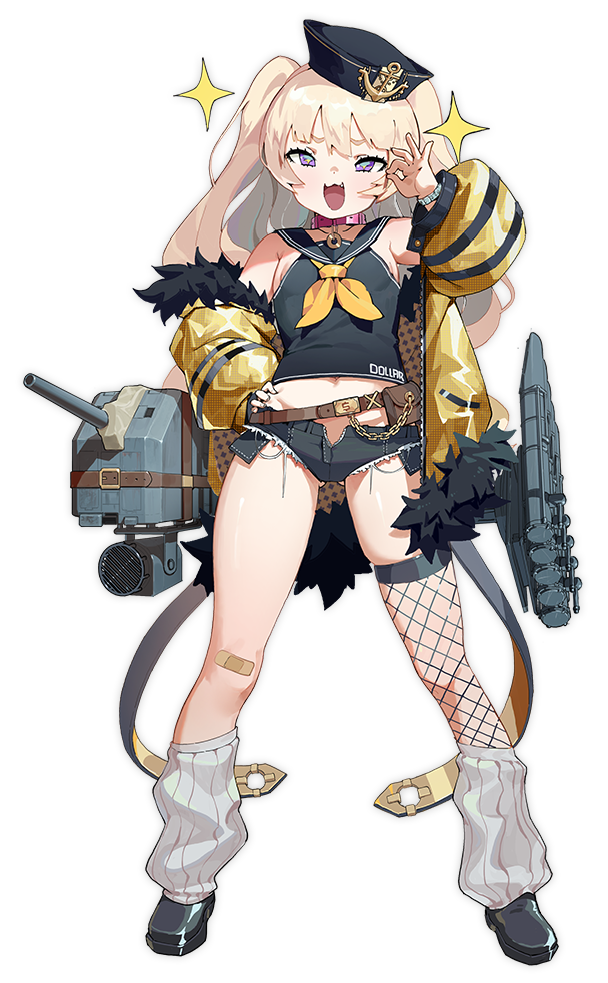person: (105, 22, 544, 786)
